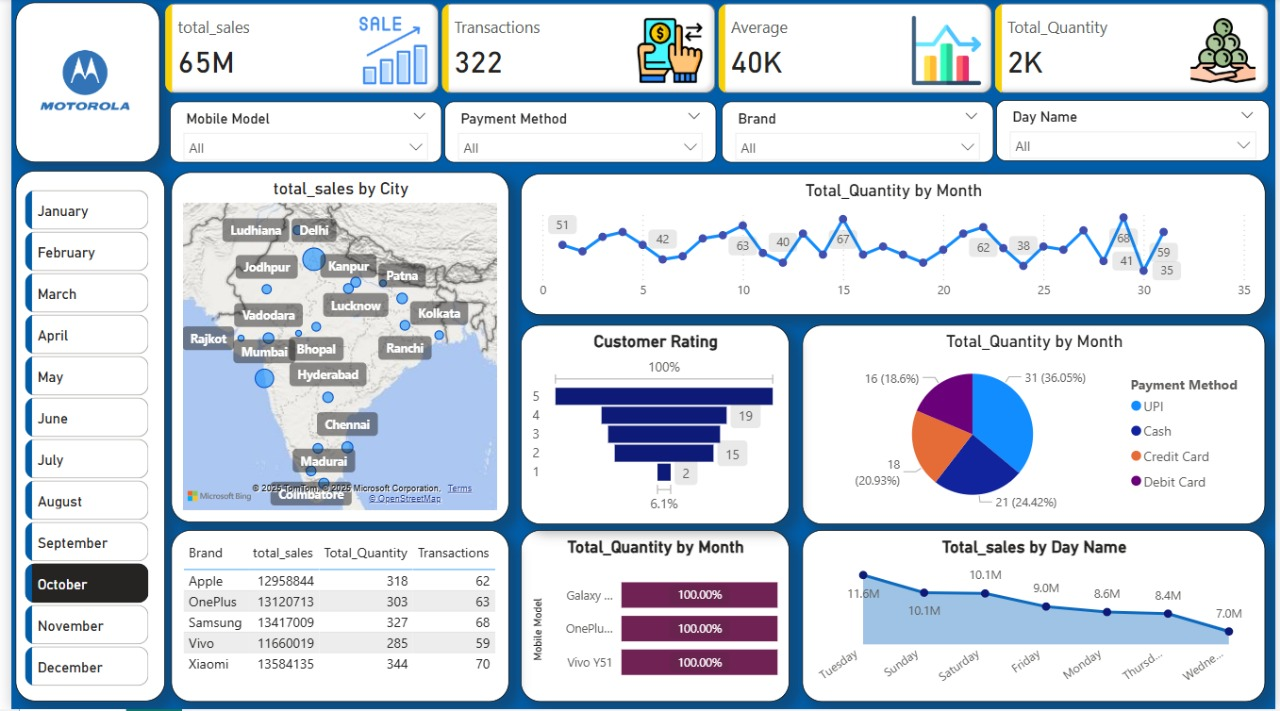

The dashboard page shown, as its layout file describes it:
{"tool":"powerbi","page":{"name":"Page 1","canvas":[1280,720],"ordinal":0},"visuals":[{"type":"shape","box":[4.3,4.3,146.1,161.9],"z":0},{"type":"image","box":[8.6,14.3,131.8,144.7],"z":1000},{"type":"shape","box":[4.8,175,151.1,537.6],"z":2000},{"type":"advancedSlicerVisual","fields":{"Values":["Sales_data.Date.Variation.Date Hierarchy.Month"]},"box":[8,189.3,135.2,521.7],"z":3000},{"type":"cardVisual","fields":{"Data":["Sales_data.total_sales","Sales_data.Total_Transactions","Sales_data.Average","Sales_data.Total_Quantity"]},"box":[151.1,0,1129.3,101.8],"z":4000},{"type":"map","fields":{"Category":["Sales_data.City"],"Size":["Sales_data.total_sales"]},"box":[162.2,176.6,342,354.7],"z":5000},{"type":"lineChart","title":"Total_Quantity by Month","fields":{"Category":["Sales_data.Date.Variation.Date Hierarchy.Month","Sales_data.Date.Variation.Date Hierarchy.Day"],"Y":["Sales_data.Total_Quantity"]},"box":[515.9,177.6,754,143.6],"z":6000},{"type":"hundredPercentStackedBarChart","title":"Total_Quantity by Month","fields":{"Category":["Sales_data.Mobile Model"],"Y":["Sales_data.total_sales"]},"box":[515.9,538.6,272.1,173.9],"z":7000},{"type":"pieChart","title":"Total_Quantity by Month","fields":{"Category":["Sales_data.Payment Method"],"Y":["Sales_data.Transactions"]},"box":[801.3,330.7,468.7,202.2],"z":8000},{"type":"funnel","title":"Customer Rating","fields":{"Category":["Sales_data.Customer Ratings"],"Y":["CountNonNull(Sales_data.Customer Ratings)"]},"box":[515.9,330.7,272.1,202.2],"z":9000},{"type":"areaChart","title":"Total_sales by Day Name","fields":{"Category":["Sales_data.Day Name"],"Y":["Sales_data.total_sales"]},"box":[801.3,538.6,468.7,173.9],"z":10000},{"type":"tableEx","fields":{"Values":["Sales_data.Brand","Sales_data.total_sales","Sales_data.Total_Quantity","Sales_data.Transactions"]},"box":[162.5,538.6,342,173.9],"z":11000},{"type":"slicer","fields":{"Values":["Sales_data.Mobile Model"]},"box":[160.7,105,275.2,62],"z":12000},{"type":"slicer","fields":{"Values":["Sales_data.Payment Method"]},"box":[439,105,275.2,62],"z":13000},{"type":"slicer","fields":{"Values":["Sales_data.Brand"]},"box":[719,105,275.2,62],"z":14000},{"type":"slicer","fields":{"Values":["Sales_data.Day Name"]},"box":[997.3,103.4,276.8,62],"z":15000}]}

Visuals, with their boxes in screenshot pixels (x1, y1, x2, y2), scaled from the page's 1280x720 canvas onto the 1280x711 screenshot:
shape: locate(4, 4, 150, 164)
image: locate(9, 14, 140, 157)
shape: locate(5, 173, 156, 704)
advancedSlicerVisual - Sales_data.Date.Variation.Date Hierarchy.Month: locate(8, 187, 143, 702)
cardVisual - Sales_data.total_sales x Sales_data.Total_Transactions: locate(151, 0, 1279, 101)
map - Sales_data.City x Sales_data.total_sales: locate(162, 174, 504, 525)
"Total_Quantity by Month" lineChart: locate(516, 175, 1270, 317)
"Total_Quantity by Month" hundredPercentStackedBarChart: locate(516, 532, 788, 704)
"Total_Quantity by Month" pieChart: locate(801, 327, 1270, 526)
"Customer Rating" funnel: locate(516, 327, 788, 526)
"Total_sales by Day Name" areaChart: locate(801, 532, 1270, 704)
tableEx - Sales_data.Brand x Sales_data.total_sales: locate(162, 532, 504, 704)
slicer - Sales_data.Mobile Model: locate(161, 104, 436, 165)
slicer - Sales_data.Payment Method: locate(439, 104, 714, 165)
slicer - Sales_data.Brand: locate(719, 104, 994, 165)
slicer - Sales_data.Day Name: locate(997, 102, 1274, 163)
